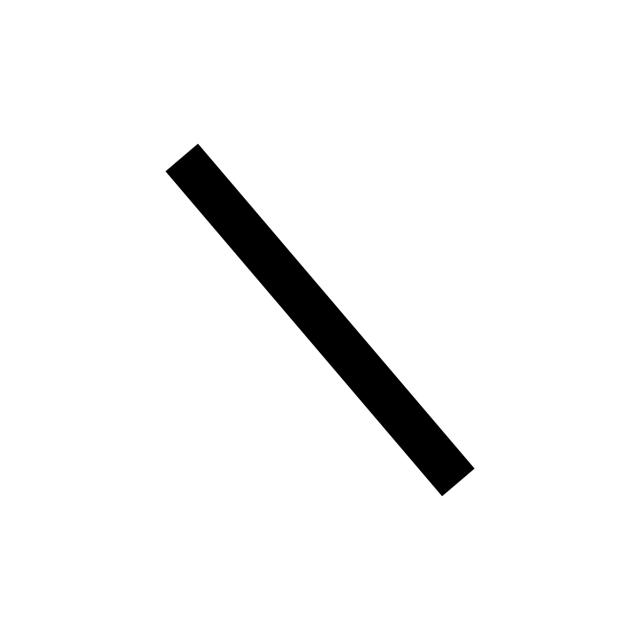line: (165, 144, 473, 496)
